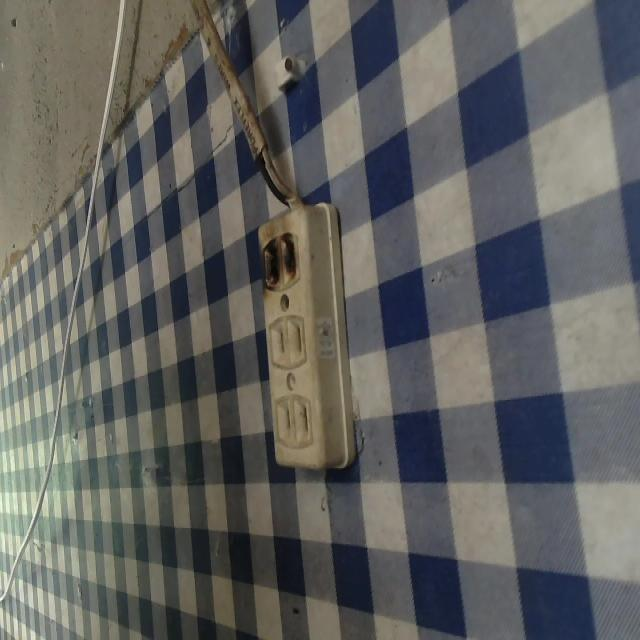-: (256, 231, 310, 292)
